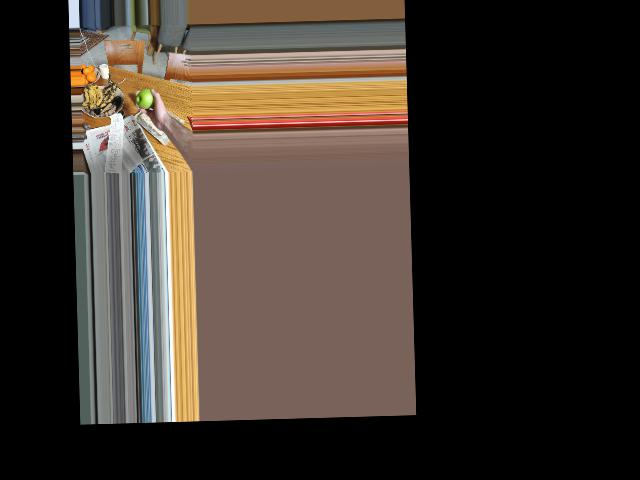apple: (137, 87, 157, 111)
